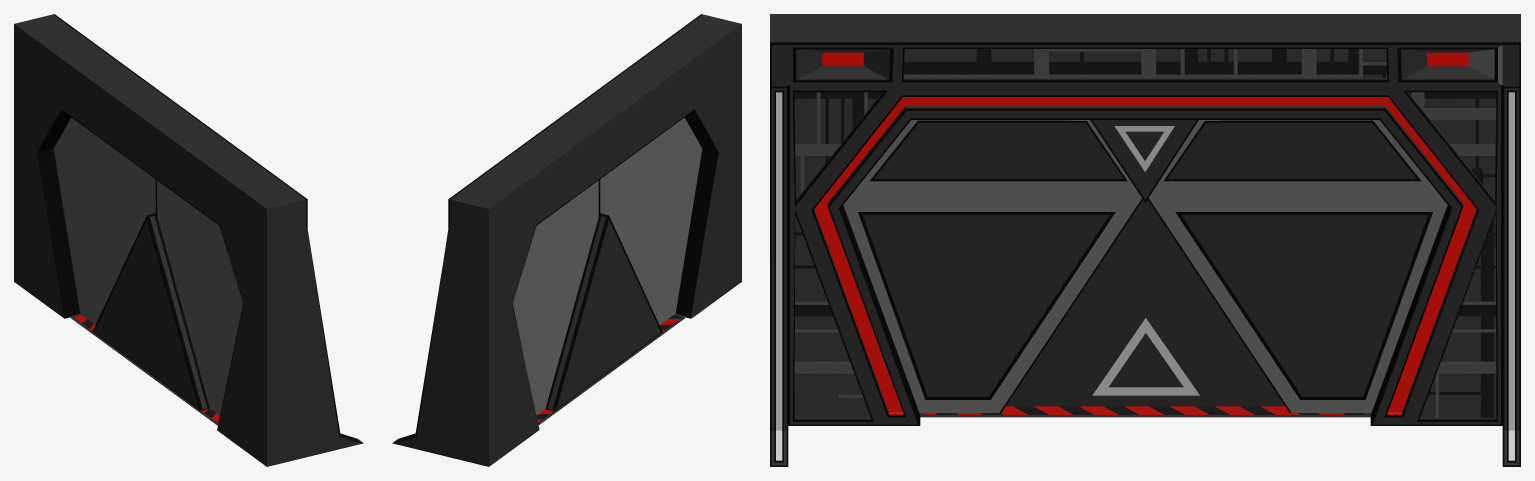
The model's file is Level 3 Door.fbx.
The picture shows the model from 3 angles, left to right: view 1: azimuth 30°, elevation 25°; view 2: azimuth 150°, elevation 25°; view 3: azimuth 270°, elevation 25°; orthographic projection. The views are drawn at different scales.
Parts seen in each view (by area): view 1: Level 3 Door Frame, Door Right, Door Bottom, Door Left; view 2: Level 3 Door Frame, Door Left, Door Bottom, Door Right; view 3: Level 3 Door Frame, Door Right, Door Left, Door Bottom, Door Top.
Part boxes in pixels (x1,y1,x2,y2): Level 3 Door Frame: [14, 14, 363, 466]; Door Right: [53, 117, 156, 324]; Door Bottom: [92, 213, 209, 410]; Door Left: [156, 180, 243, 415]; Level 3 Door Frame: [392, 14, 741, 466]; Door Left: [599, 117, 702, 324]; Door Bottom: [545, 213, 662, 411]; Door Right: [512, 180, 599, 415]; Level 3 Door Frame: [770, 14, 1520, 466]; Door Right: [1148, 120, 1447, 414]; Door Left: [843, 120, 1142, 414]; Door Bottom: [1006, 199, 1284, 406]; Door Top: [1090, 120, 1198, 202].
Size of the model in its own units: 12.8 by 7.2 by 2.83.
